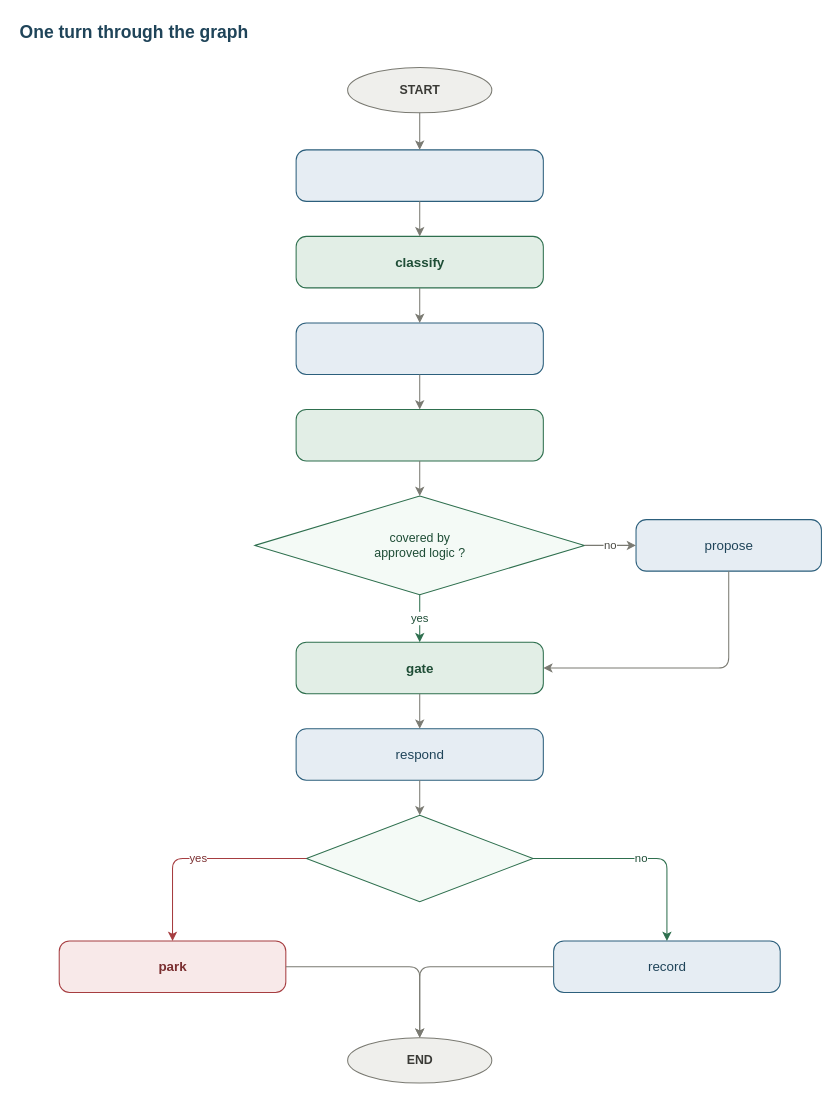
The diagram is 839 pixels wide and 1101 high, and some of its shapes have lost their labels. Here are the shapes that lost their labels. From the top down, the centre of each, then its label:
the point at 419,175: suggest
the point at 419,348: extract
the point at 419,434: derive
the point at 419,858: blocked ?
